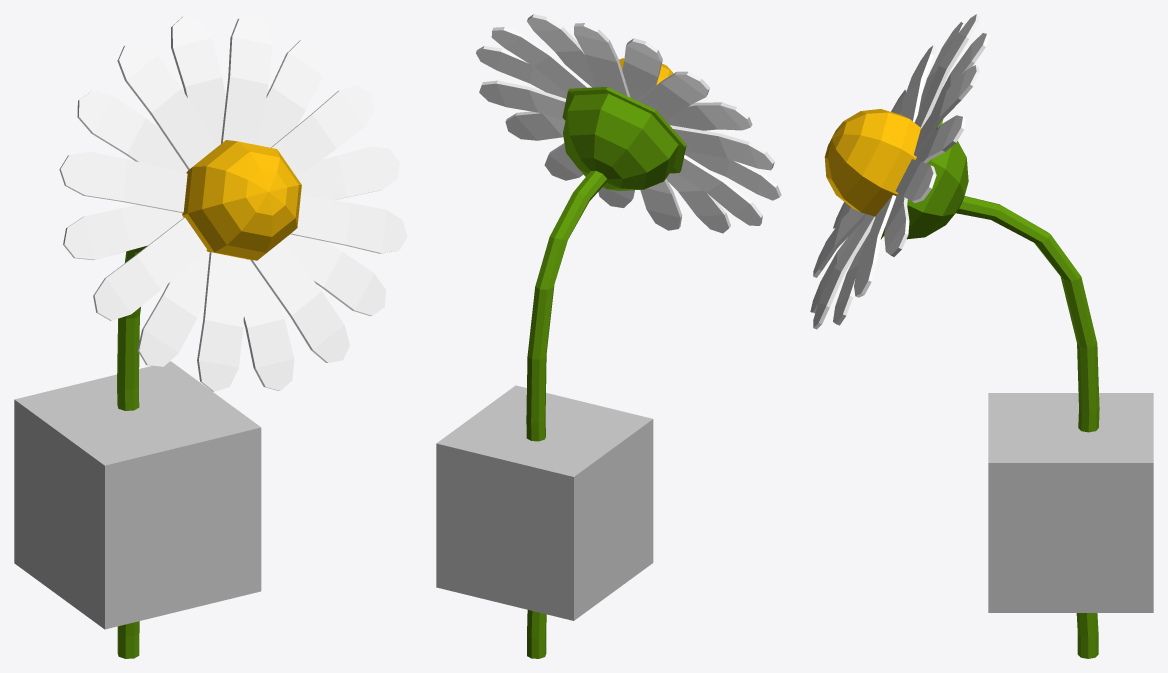
The model's file is daisy.fbx.
3 renders of one model, left to right at view 1: azimuth 30°, elevation 25°; view 2: azimuth 150°, elevation 25°; view 3: azimuth 270°, elevation 25°, orthographic. The views are drawn at different scales.
Parts seen in each view (by area): view 1: daisy, Cube; view 2: daisy, Cube; view 3: Cube, daisy.
Boxes of the visible parts, x1=… form: daisy: x1=59, y1=14, x2=407, y2=658; Cube: x1=14, y1=361, x2=261, y2=629; daisy: x1=476, y1=14, x2=781, y2=658; Cube: x1=436, y1=385, x2=653, y2=620; Cube: x1=988, y1=393, x2=1153, y2=612; daisy: x1=810, y1=14, x2=1099, y2=658.
Size of the model in its own units: 428 by 828 by 415.
